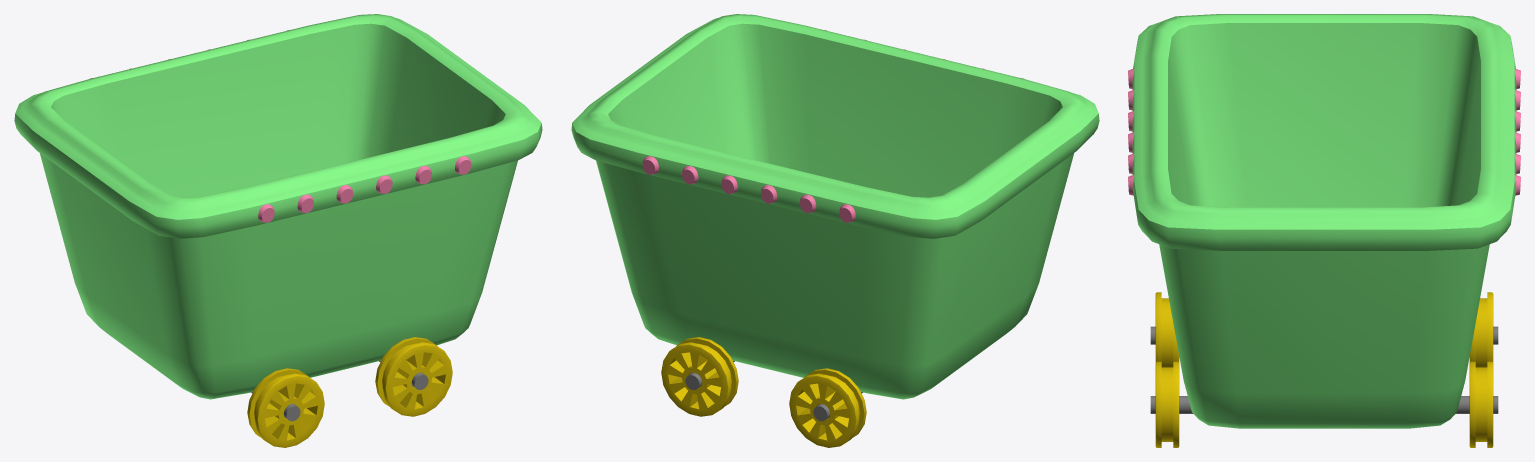
File: Cart.FBX
3 renders of one model, left to right at view 1: azimuth 30°, elevation 25°; view 2: azimuth 150°, elevation 25°; view 3: azimuth 270°, elevation 25°, orthographic. The views are drawn at different scales.
Visible parts, largest first — view 1: Cone001, Cylinder004; view 2: Cone001, Cylinder004; view 3: Cone001, Cylinder004, Cylinder006.
Boxes of the visible parts, left/top/right/bottom form: Cone001: left=14, top=14, right=542, bottom=399; Cylinder004: left=247, top=337, right=452, bottom=447; Cone001: left=571, top=14, right=1099, bottom=399; Cylinder004: left=661, top=337, right=866, bottom=447; Cone001: left=1128, top=14, right=1520, bottom=428; Cylinder004: left=1155, top=292, right=1493, bottom=447; Cylinder006: left=1150, top=326, right=1498, bottom=413.
Bounding box in the file's own units: 57.44 × 37.12 × 44.51.
